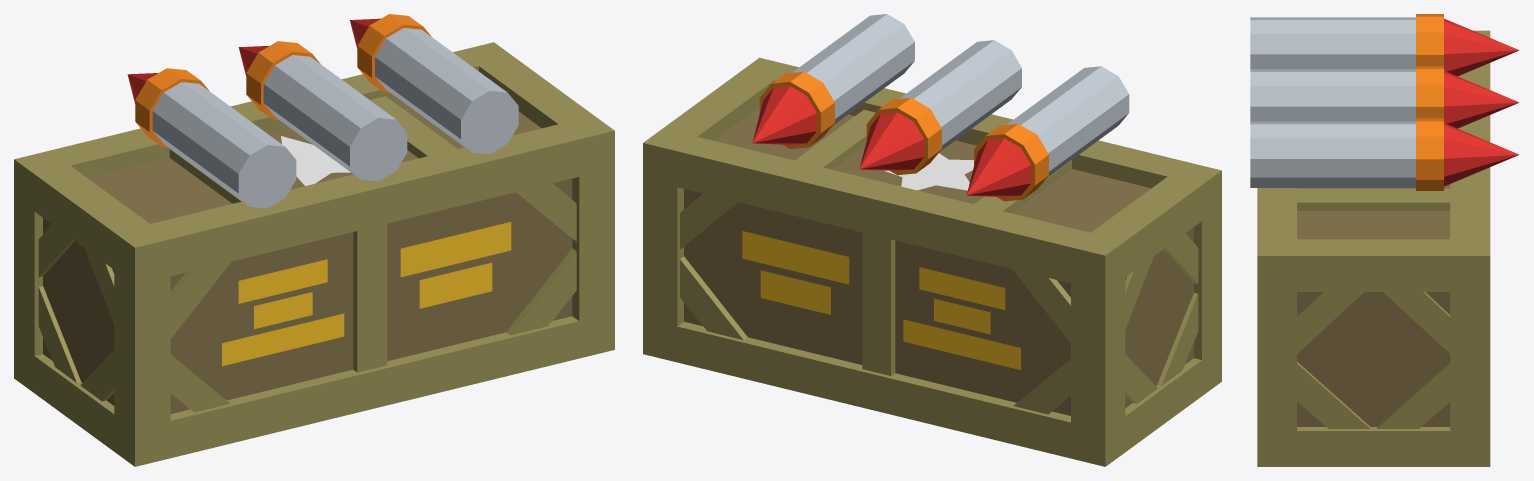
The model's file is item_multi.glb.
3 renders of one model, left to right at view 1: azimuth 30°, elevation 25°; view 2: azimuth 150°, elevation 25°; view 3: azimuth 270°, elevation 25°, orthographic. The views are drawn at different scales.
Visible parts, largest first — view 1: item_mesh; view 2: item_mesh; view 3: item_mesh.
Part boxes in pixels (box(x1,y1,x2,y2)): item_mesh: box(14, 14, 614, 466); item_mesh: box(643, 14, 1221, 466); item_mesh: box(1250, 14, 1519, 466).
Size of the model in its own units: 0.95 by 0.5607 by 0.4801.
1 material, 1 textured.
